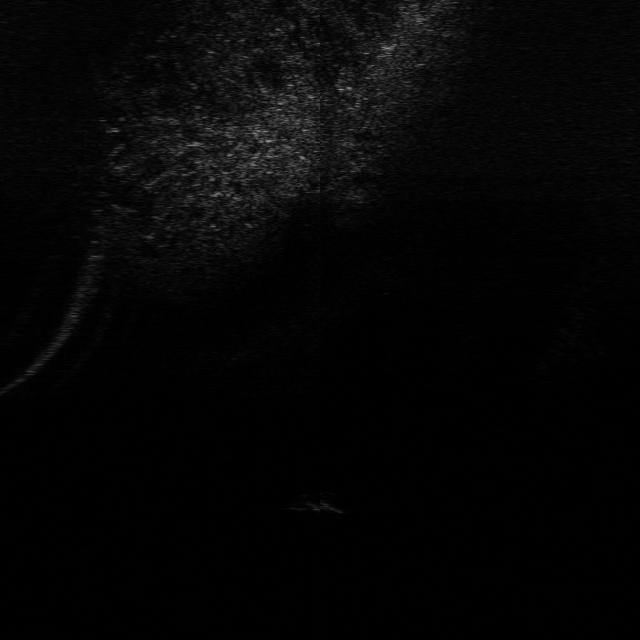cube: (286, 489, 350, 515)
